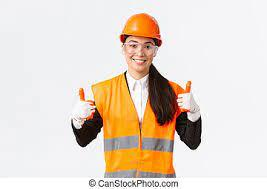Gloves: (174, 82, 204, 121), (65, 88, 97, 123)
Helmet: (122, 9, 166, 41)
Jacket: (92, 71, 181, 176)
